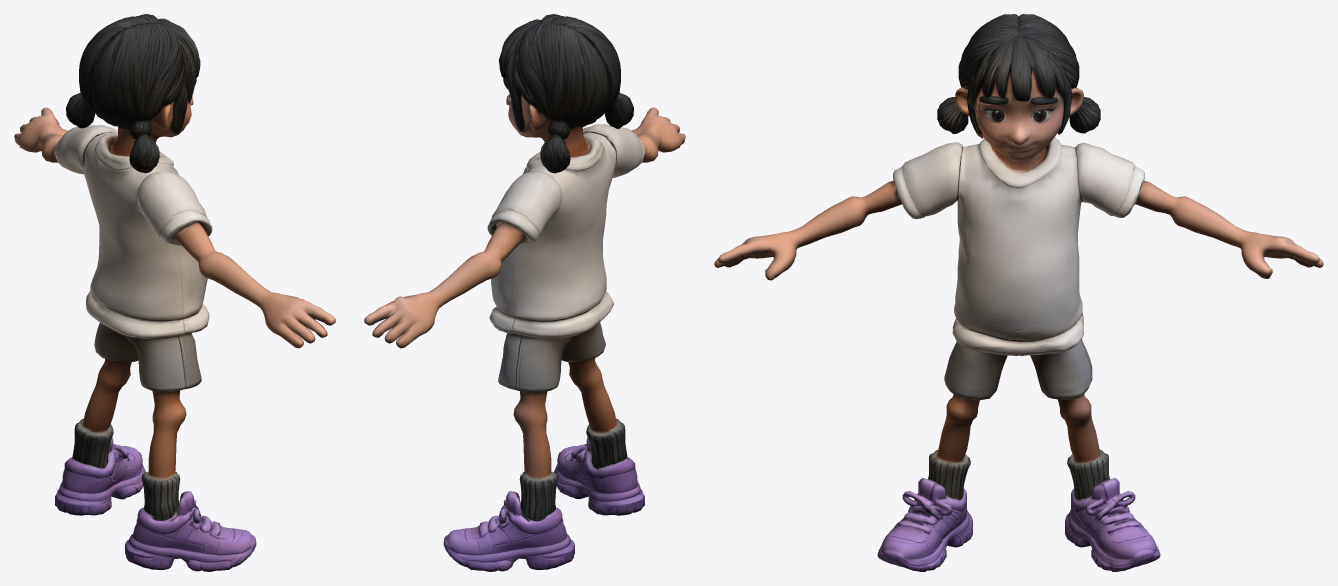
3 views of the same model, side by side, from view 1: azimuth 30°, elevation 25°; view 2: azimuth 150°, elevation 25°; view 3: azimuth 270°, elevation 25° (orthographic). The views are drawn at different scales.
Parts seen in each view (by area): view 1: tripo_node_0598cc14; view 2: tripo_node_0598cc14; view 3: tripo_node_0598cc14.
Part boxes in pixels (x1,y1,x2,y2): tripo_node_0598cc14: (14,14,335,571); tripo_node_0598cc14: (364,14,685,571); tripo_node_0598cc14: (714,14,1323,571).
Size of the model in its own units: 0.2211 by 0.9569 by 1.
Materials: 1 (1 with a texture image).
